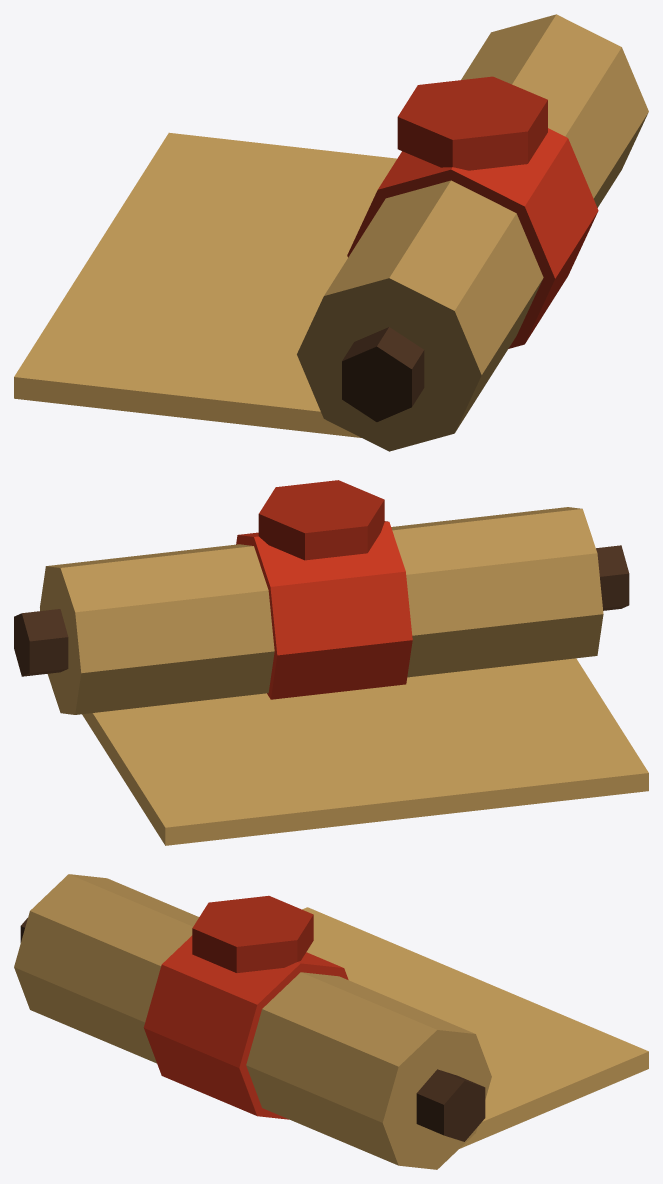
Rendered from scroll_of_meteor_storm.glb.
The picture shows the model from 3 angles, top to bottom: view 1: azimuth 30°, elevation 25°; view 2: azimuth 150°, elevation 25°; view 3: azimuth 270°, elevation 25°; orthographic projection. The views are drawn at different scales.
Visible parts, largest first — view 1: scroll_of_meteor_storm; view 2: scroll_of_meteor_storm; view 3: scroll_of_meteor_storm.
Boxes of the visible parts, box(x1,y1,x2,y2) form: scroll_of_meteor_storm: box(14, 14, 648, 451); scroll_of_meteor_storm: box(14, 480, 648, 845); scroll_of_meteor_storm: box(14, 874, 648, 1169).
Size of the model in its own units: 0.822 by 0.2563 by 0.822.
